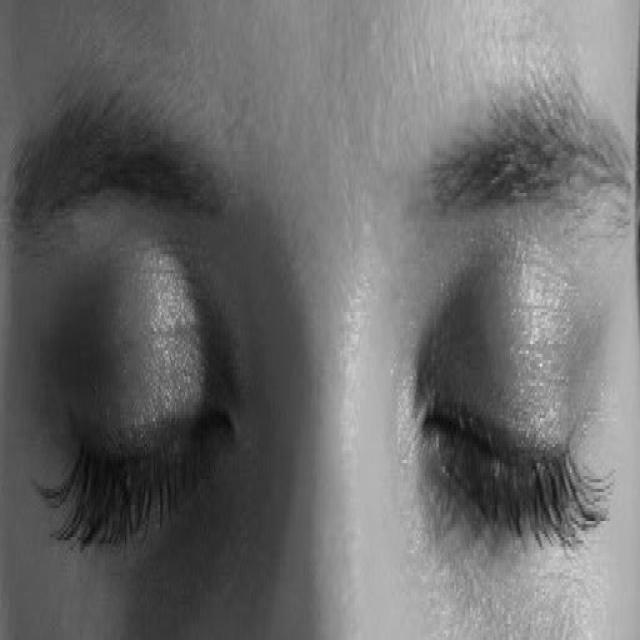real: (28, 172, 618, 573)
